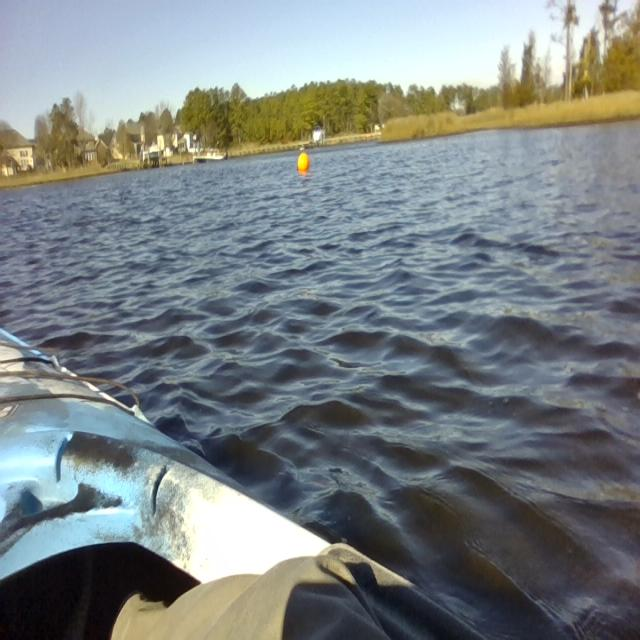Buoy: (294, 148, 312, 178)
